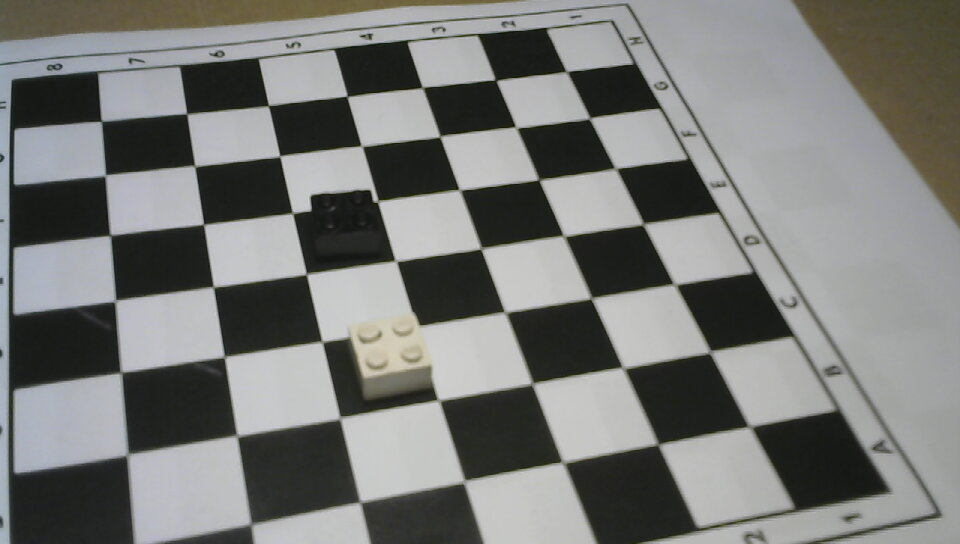bp: (301, 186, 390, 261)
